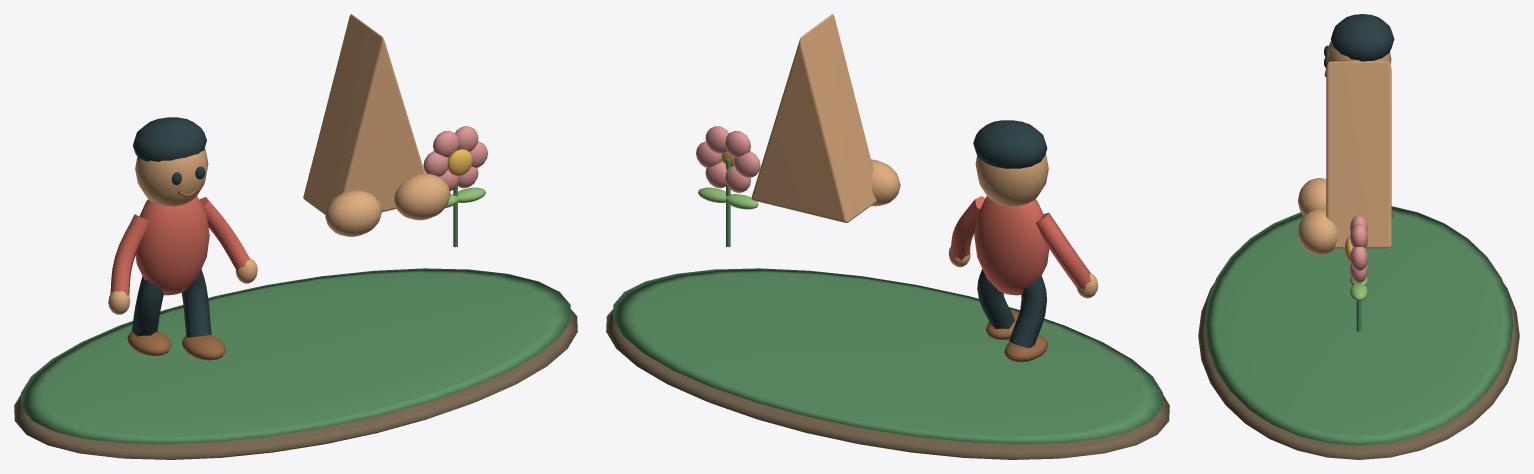
Rendered from child-nose.glb.
3 renders of one model, left to right at view 1: azimuth 30°, elevation 25°; view 2: azimuth 150°, elevation 25°; view 3: azimuth 270°, elevation 25°, orthographic. The views are drawn at different scales.
Parts seen in each view (by area): view 1: child-nose_surface_01, child-nose_surface_02, child-nose_surface_00, child-nose_surface_05, child-nose_surface_03, child-nose_surface_07, child-nose_surface_04; view 2: child-nose_surface_01, child-nose_surface_02, child-nose_surface_00, child-nose_surface_05, child-nose_surface_03, child-nose_surface_07, child-nose_surface_04, child-nose_surface_06; view 3: child-nose_surface_01, child-nose_surface_02, child-nose_surface_00, child-nose_surface_03, child-nose_surface_07, child-nose_surface_06.
Boxes of the visible parts, x1=… form: child-nose_surface_01: x1=21, y1=185, x2=570, y2=444; child-nose_surface_02: x1=108, y1=14, x2=450, y2=314; child-nose_surface_00: x1=14, y1=309, x2=577, y2=459; child-nose_surface_05: x1=110, y1=196, x2=250, y2=295; child-nose_surface_03: x1=132, y1=117, x2=211, y2=337; child-nose_surface_07: x1=423, y1=126, x2=487, y2=191; child-nose_surface_04: x1=127, y1=187, x2=225, y2=360; child-nose_surface_01: x1=613, y1=158, x2=1162, y2=444; child-nose_surface_02: x1=751, y1=14, x2=1098, y2=298; child-nose_surface_00: x1=606, y1=309, x2=1169, y2=459; child-nose_surface_05: x1=950, y1=196, x2=1091, y2=295; child-nose_surface_03: x1=973, y1=120, x2=1047, y2=347; child-nose_surface_07: x1=696, y1=126, x2=760, y2=192; child-nose_surface_04: x1=986, y1=311, x2=1048, y2=362; child-nose_surface_06: x1=698, y1=187, x2=758, y2=209; child-nose_surface_01: x1=1204, y1=206, x2=1513, y2=445; child-nose_surface_02: x1=1297, y1=41, x2=1391, y2=254; child-nose_surface_00: x1=1198, y1=284, x2=1519, y2=459; child-nose_surface_03: x1=1324, y1=14, x2=1394, y2=68; child-nose_surface_07: x1=1350, y1=215, x2=1367, y2=283; child-nose_surface_06: x1=1350, y1=276, x2=1367, y2=300.
Bounding box in the file's own units: 4.56 × 2.76 × 2.5.
